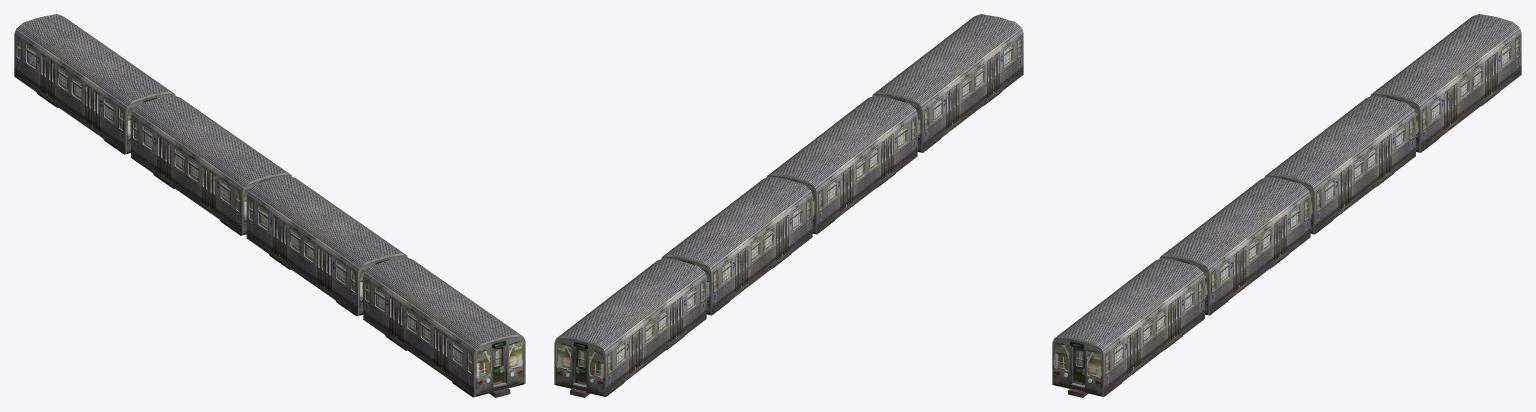
File: subway_train.glb
The picture shows the model from 3 angles, left to right: view 1: azimuth 30°, elevation 25°; view 2: azimuth 150°, elevation 25°; view 3: azimuth 330°, elevation 25°; orthographic projection. The views are drawn at different scales.
Visible parts, largest first — view 1: SubwayCart; view 2: SubwayCart; view 3: SubwayCart.
Part boxes in pixels (bbox=[...]): SubwayCart: bbox=[14, 14, 525, 397]; SubwayCart: bbox=[554, 14, 1023, 397]; SubwayCart: bbox=[1052, 14, 1521, 397].
Bounding box in the file's own units: 0.0395 × 0.0356 × 0.4472.
Materials: 1 (1 with a texture image).
